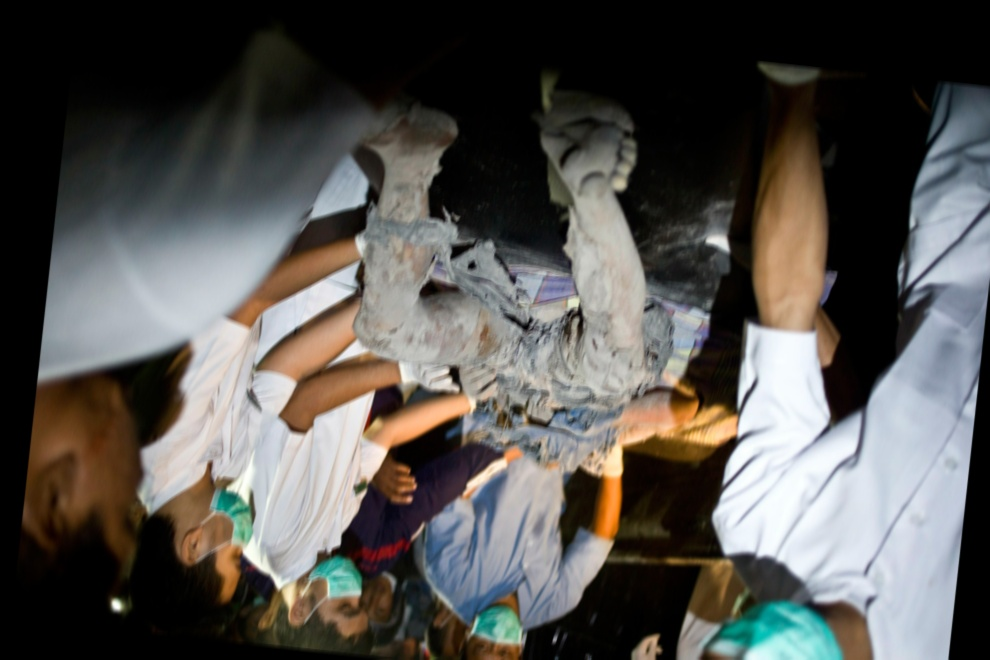BukanKorban: (12, 0, 403, 653), (683, 62, 990, 660), (211, 254, 491, 660), (122, 209, 367, 652), (412, 426, 626, 660), (348, 563, 411, 652)
Korban: (324, 92, 727, 486)
